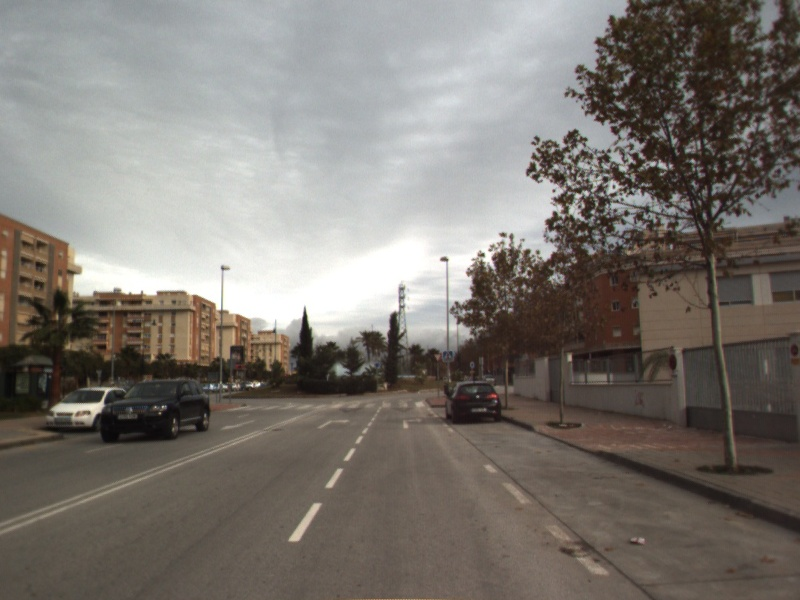RIGHT: (315, 417, 352, 430), (400, 415, 425, 430)
